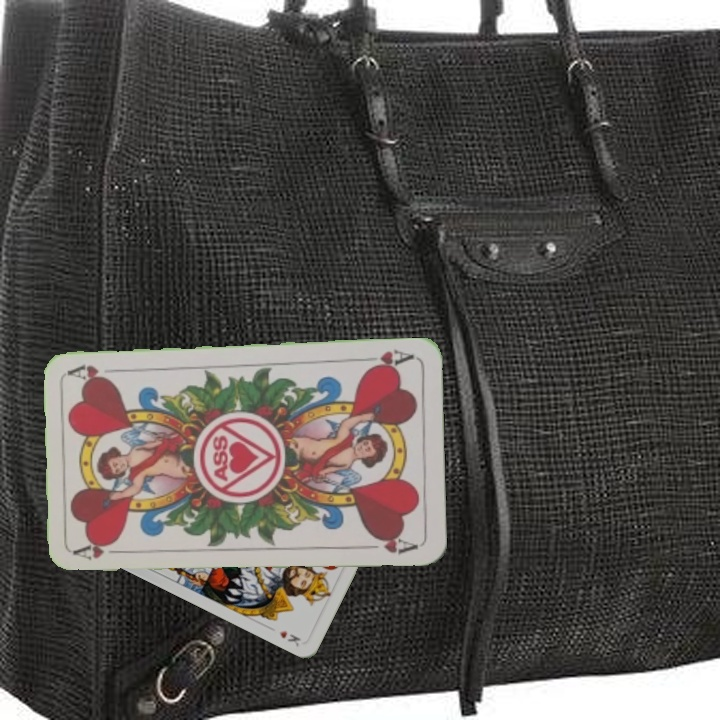HA: (357, 345, 416, 373), (72, 538, 131, 563)
